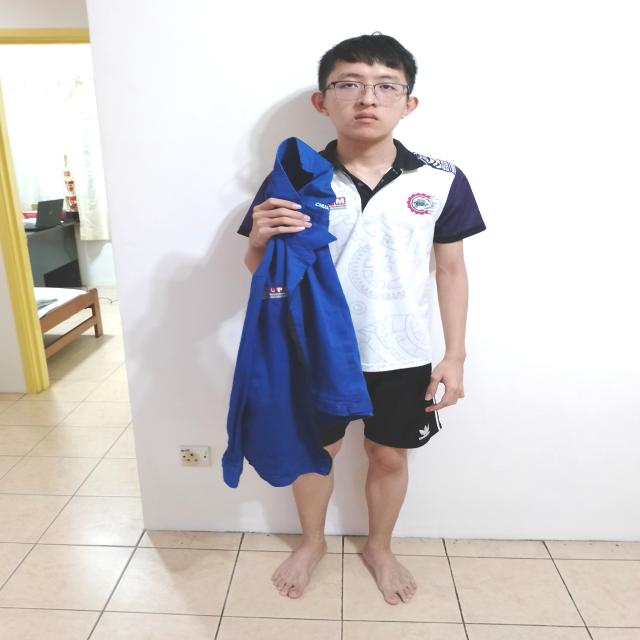person_without_labcoat: (223, 34, 485, 604)
